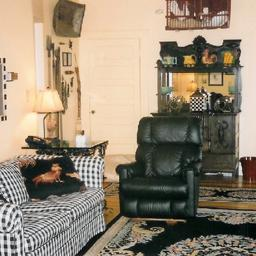Bote de Basura: (238, 151, 255, 182)
Puerta: (82, 42, 139, 150)
